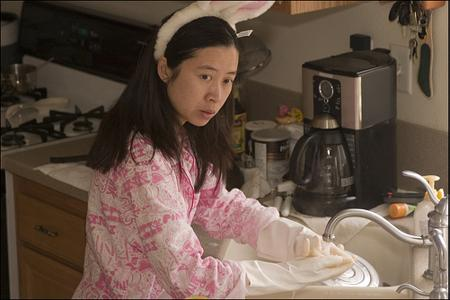person: (66, 4, 358, 300)
